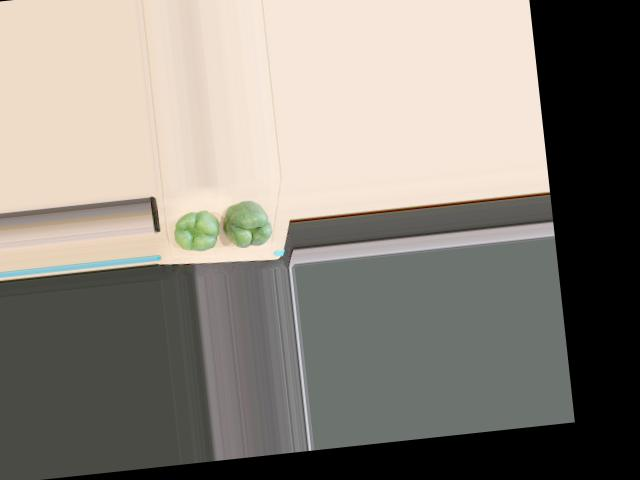bell_pepper: (172, 203, 223, 254)
